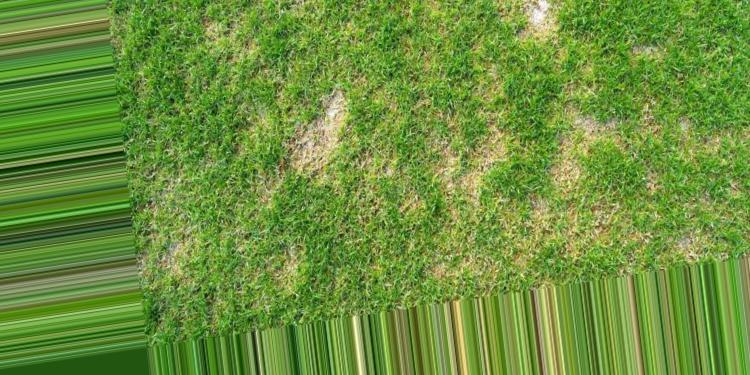patch: (301, 105, 409, 183)
